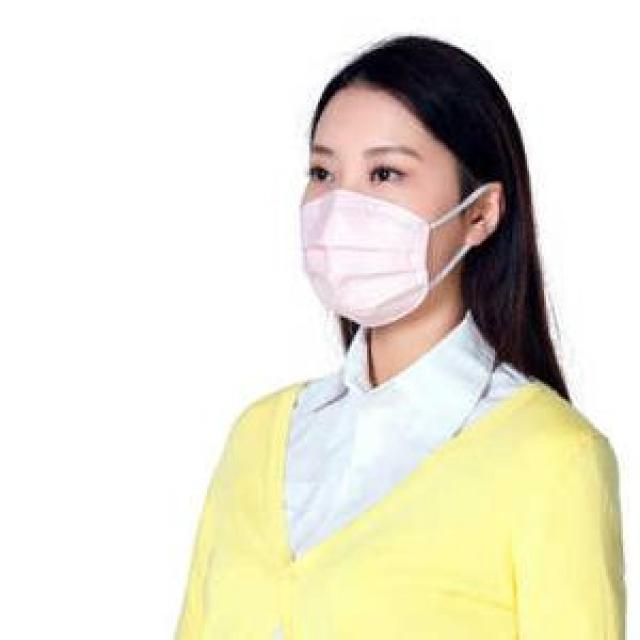mask: (297, 86, 462, 315)
